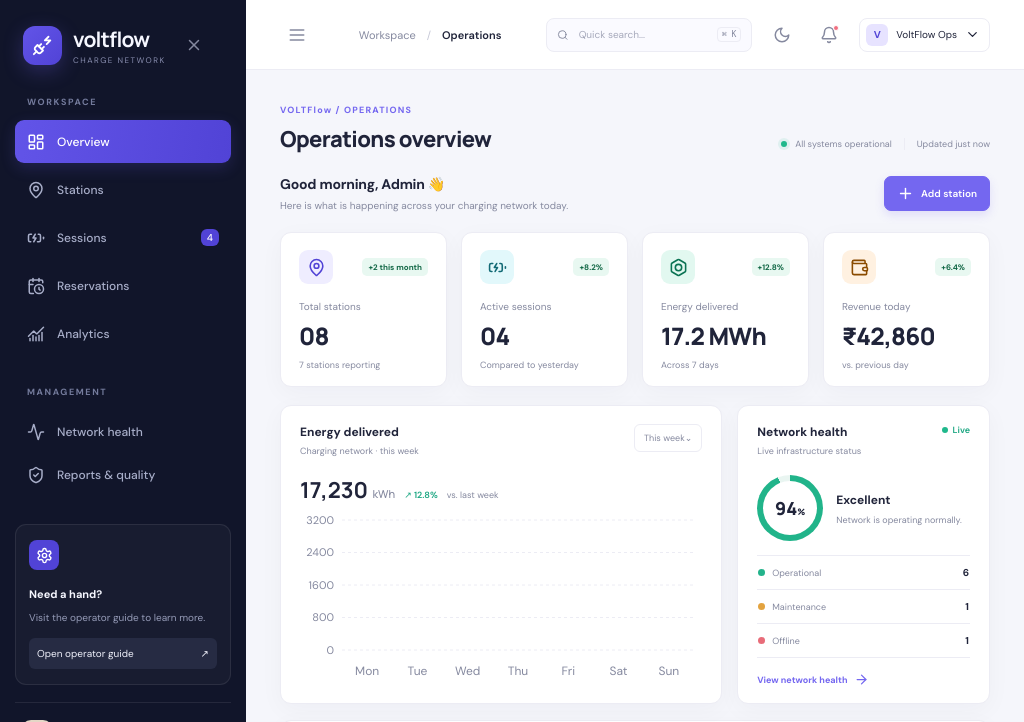
Test: shows an error when station details are too short
Step 1. Click the button "Add station" → coordinates (937, 194), box [884,176,990,211]
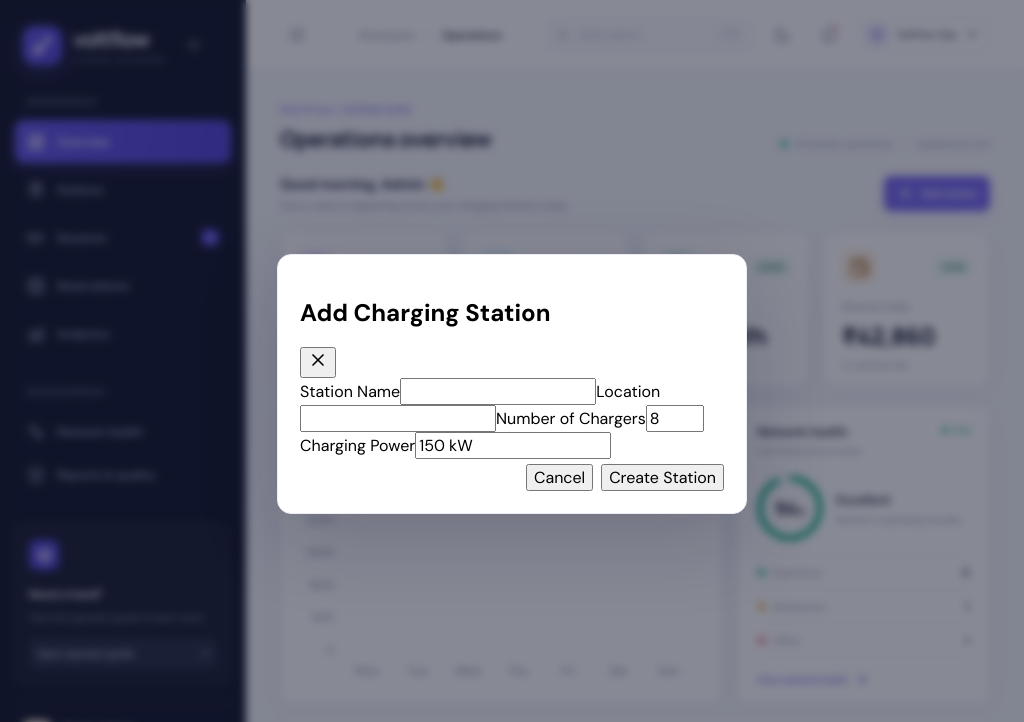
Step 2. Type "A" into the field labelled "Station Name" → coordinates (498, 392), box [400,378,596,405]
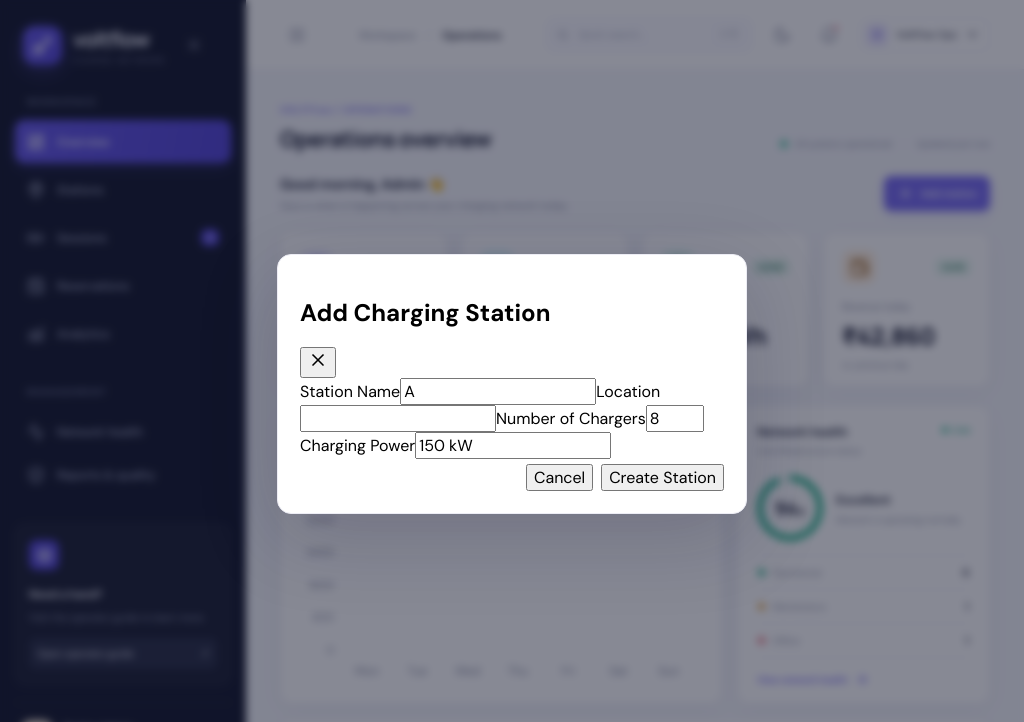
Step 3. Type "B" into the field labelled "Location" → coordinates (398, 419), box [300,405,496,432]
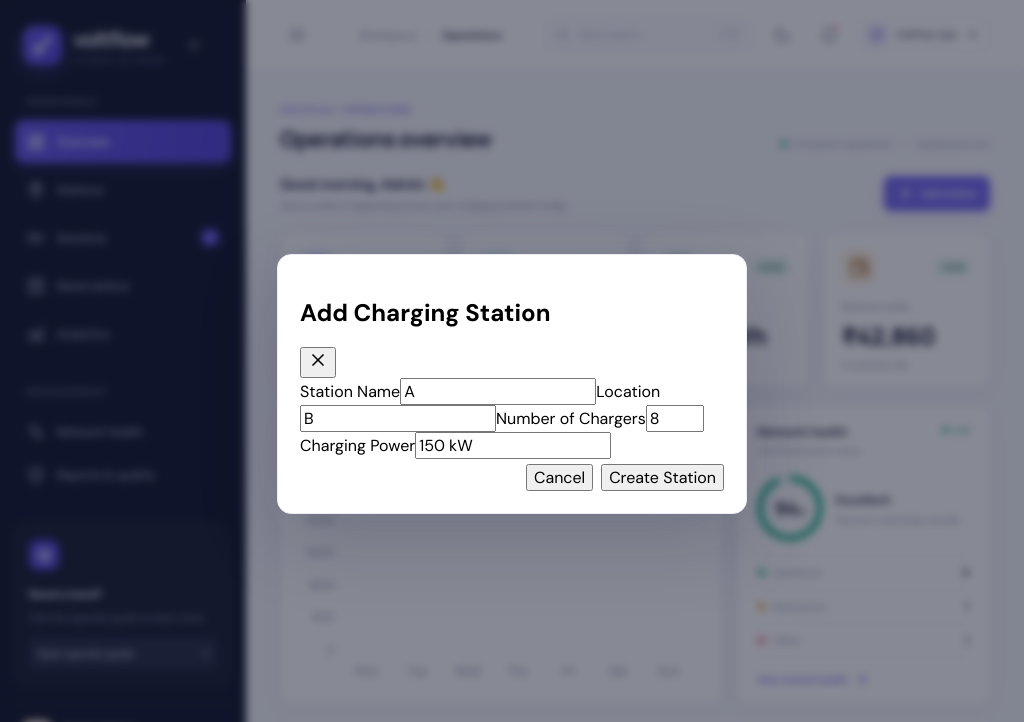
Step 4. Click the button "Create Station" → coordinates (663, 478), box [601,464,724,491]
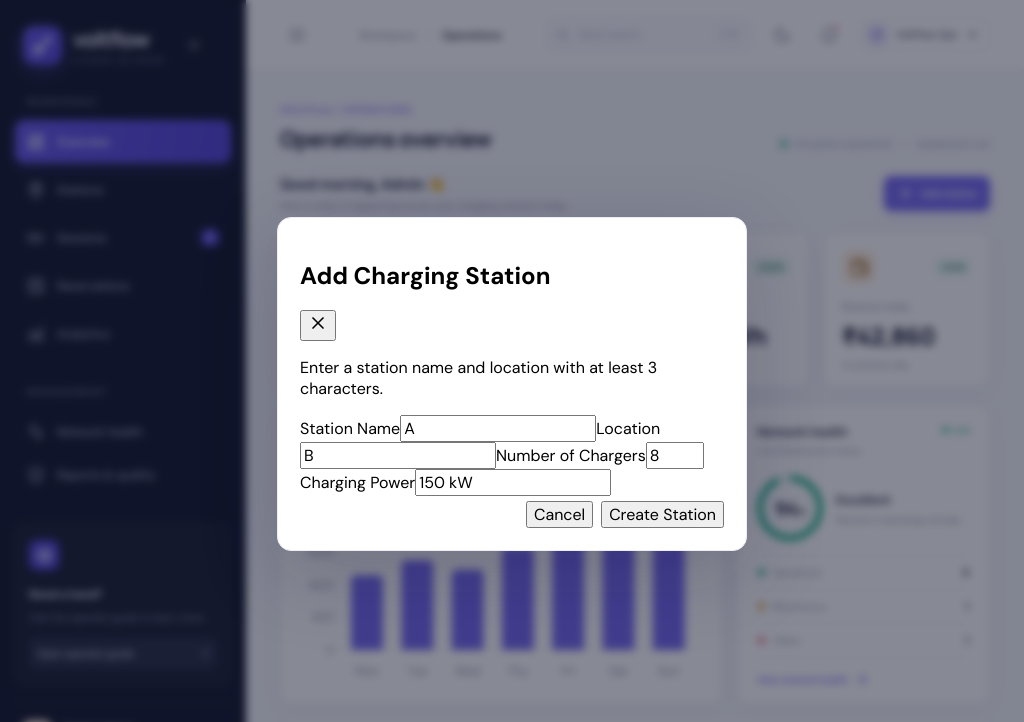
Now the dialog "Add Charging Station" shows "Enter a station name and location with at least 3 characters.", box [300,357,657,399]
